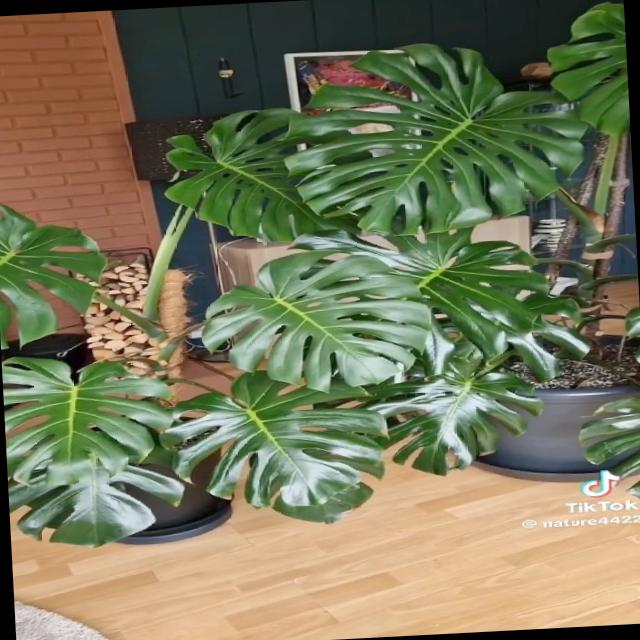roslina_zdrowa: (0, 2, 640, 549)
